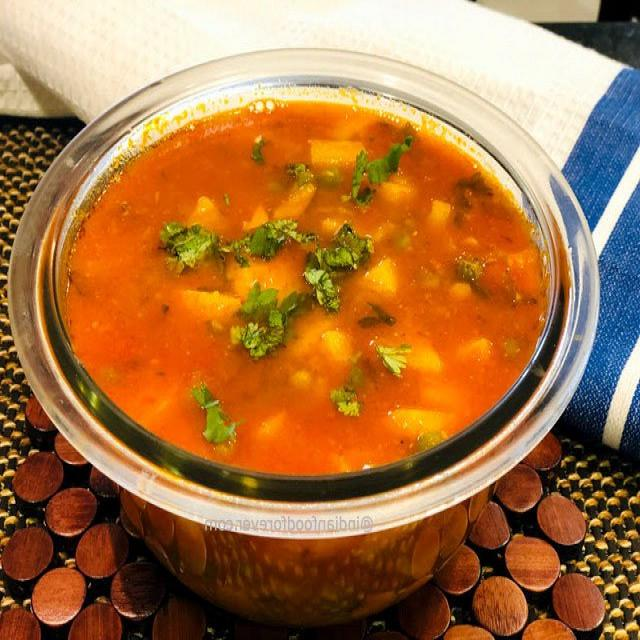Aloo Matar: (50, 93, 537, 477)
